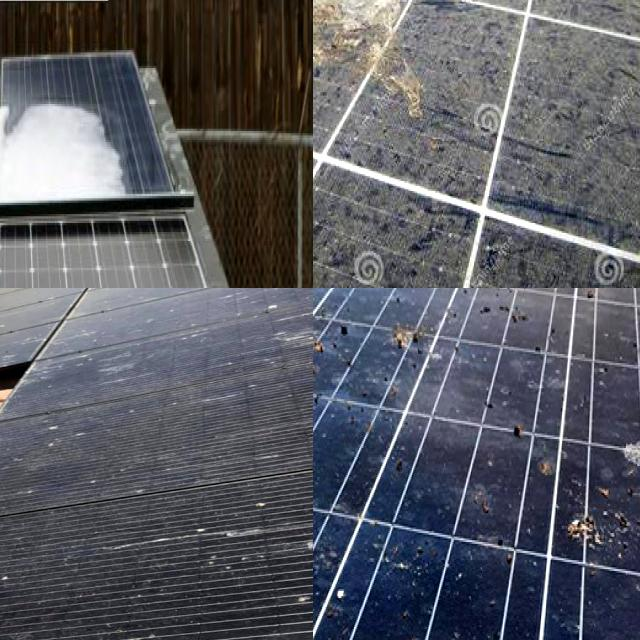bird: (313, 0, 456, 128), (166, 504, 255, 586), (376, 532, 448, 604), (554, 504, 628, 560), (0, 527, 66, 586), (39, 404, 94, 456), (385, 312, 432, 370), (470, 300, 544, 334), (282, 538, 313, 615), (313, 580, 353, 639), (0, 602, 60, 640), (313, 485, 336, 583), (532, 437, 572, 490), (269, 309, 313, 356), (313, 409, 342, 468), (313, 358, 340, 413), (617, 422, 640, 483), (414, 288, 470, 311), (503, 408, 530, 448), (315, 288, 371, 306), (396, 612, 426, 640), (527, 288, 575, 303), (313, 494, 326, 548), (313, 300, 333, 334), (313, 288, 335, 314), (517, 288, 562, 297), (313, 288, 327, 308), (313, 352, 322, 381), (313, 288, 323, 309), (313, 288, 330, 297)
panel: (69, 79, 114, 142), (28, 82, 60, 162), (0, 121, 22, 216), (101, 148, 138, 197), (0, 84, 22, 156), (0, 71, 26, 123), (0, 79, 19, 142), (65, 266, 112, 288), (0, 165, 16, 223)
